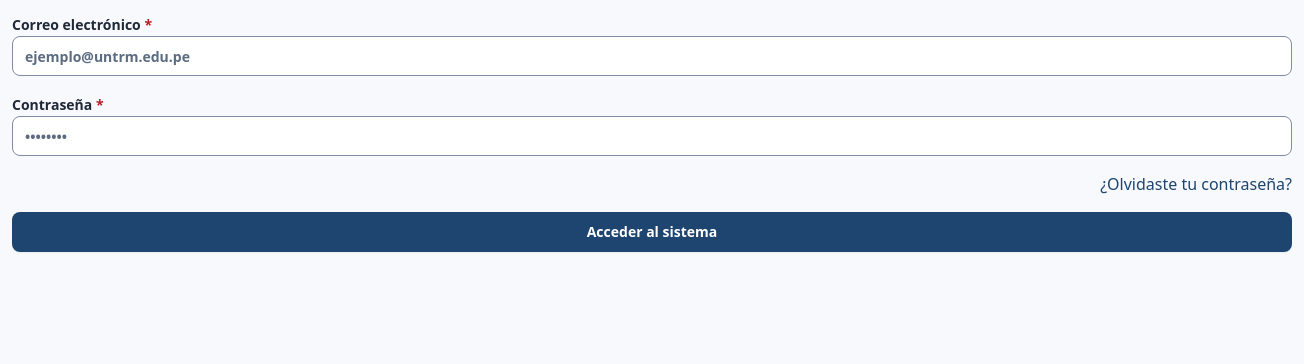
LoginForm component › shows rate limit message on RATE_LIMITED
This screenshot has width=1304, height=364.
Type "ratelimit@untrm.edu.pe" into the field labelled "Correo electrónico *" at (652, 56), box x1=12 y1=36 x2=1292 y2=76
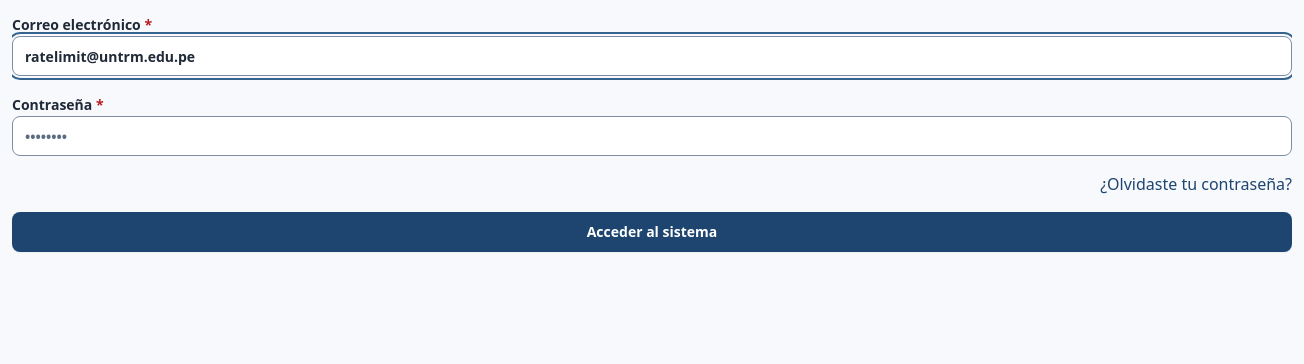
Type "ClaveValida123" into the password field labelled "Contraseña *" at (652, 136), box x1=12 y1=116 x2=1292 y2=156
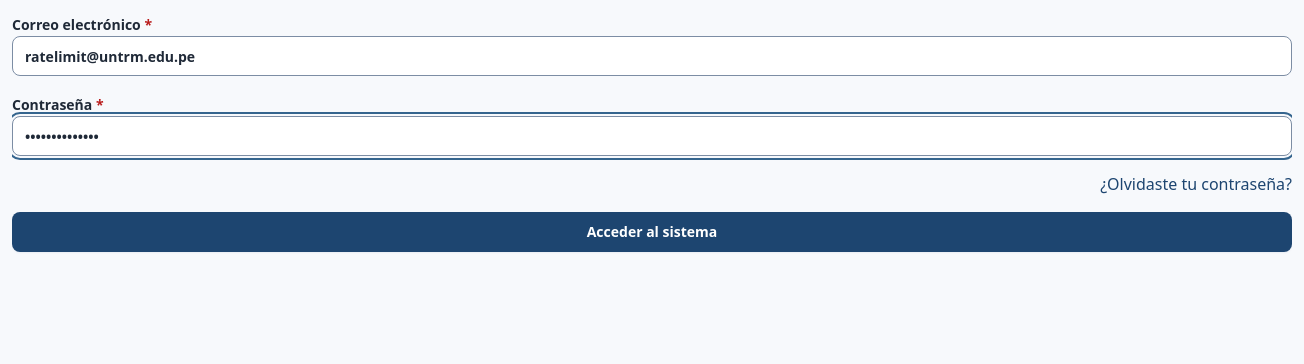
Click the button "Acceder al sistema" at (652, 232), box x1=12 y1=212 x2=1292 y2=252
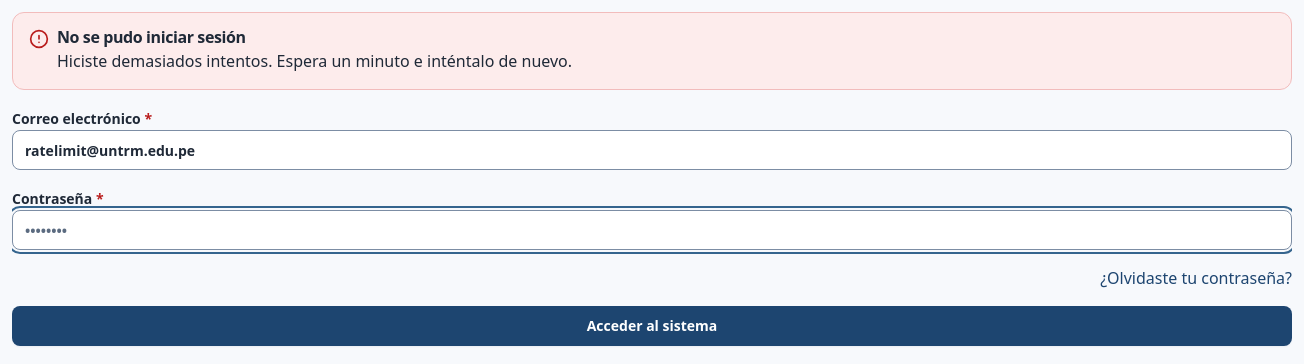
Now the message shows "hiciste demasiados intentos. espera un minuto e inténtalo de nuevo.", box x1=57 y1=50 x2=572 y2=72
